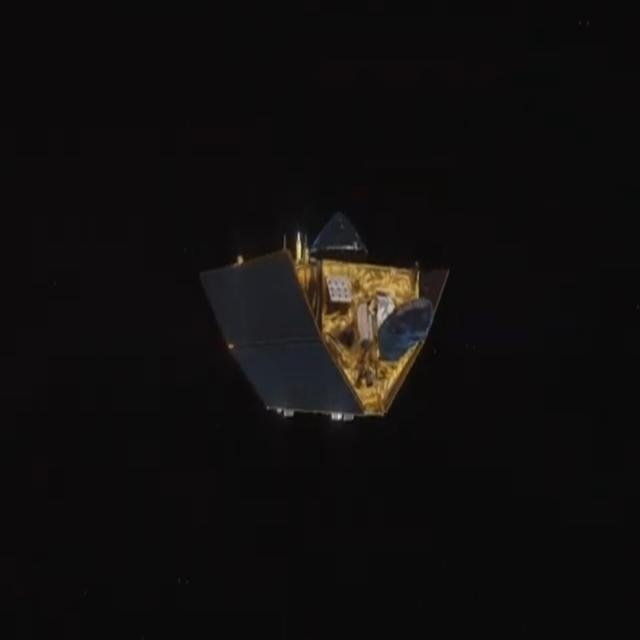satellite: (181, 162, 471, 465)
